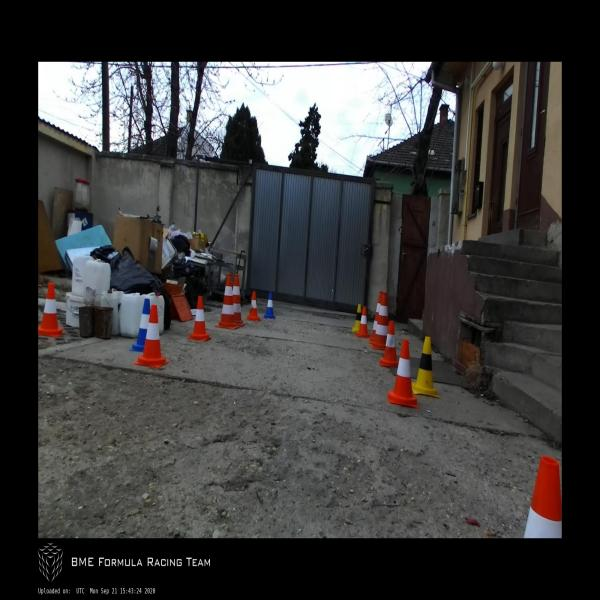blue_cone: (129, 299, 151, 352), (263, 292, 275, 319)
large_orange_cone: (215, 273, 239, 329), (370, 292, 388, 351), (368, 291, 383, 343), (232, 274, 246, 326)
orange_cone: (523, 457, 562, 538), (387, 339, 419, 408), (134, 305, 169, 368), (39, 283, 66, 337), (187, 296, 211, 342), (379, 320, 399, 366), (356, 306, 370, 338), (246, 291, 260, 321)
yellow_cone: (412, 336, 439, 398), (352, 305, 361, 332)
